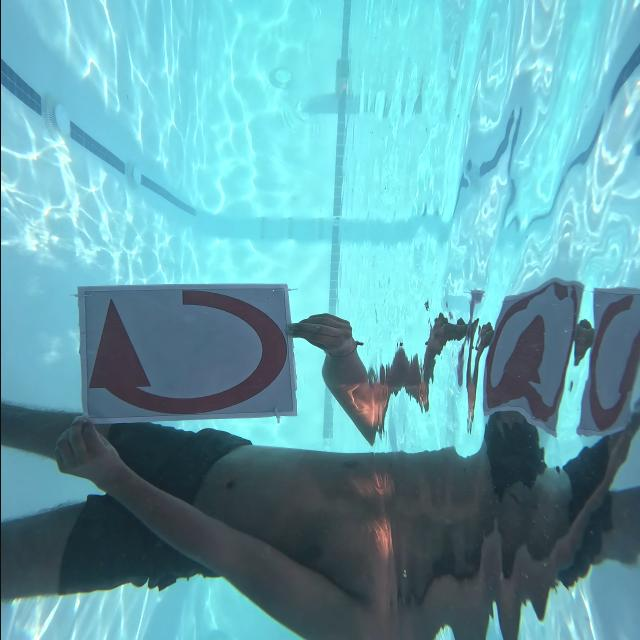red_side: (74, 280, 298, 422)
